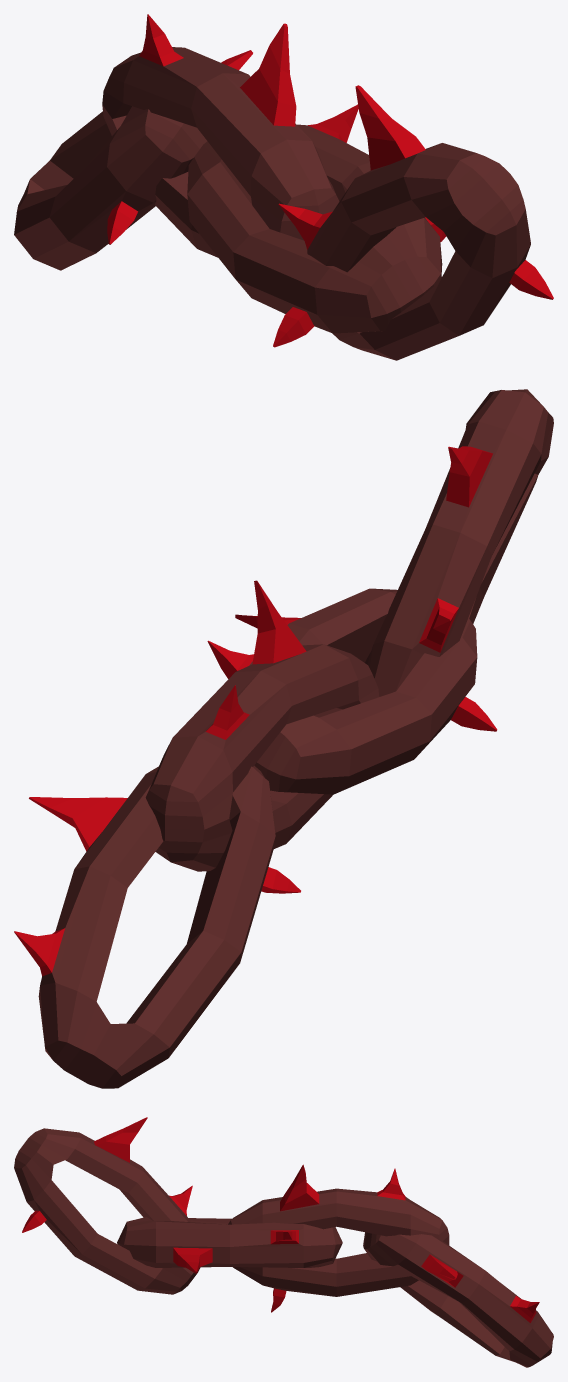
The model's file is Blood.fbx.
3 views of the same model, one above another, from view 1: azimuth 30°, elevation 25°; view 2: azimuth 150°, elevation 25°; view 3: azimuth 270°, elevation 25° (orthographic). The views are drawn at different scales.
Parts seen in each view (by area): view 1: Link.004, Link.002, Link.001, Link.003; view 2: Link.003, Link.001, Link.004, Link.002; view 3: Link.004, Link.001, Link.003, Link.002.
Part boxes in pixels (x1=…): Link.004: x1=278, y1=85, x2=553, y2=360; Link.002: x1=187, y1=104, x2=446, y2=347; Link.001: x1=102, y1=14, x2=339, y2=257; Link.003: x1=14, y1=50, x2=252, y2=270; Link.003: x1=14, y1=765, x2=300, y2=1088; Link.001: x1=145, y1=580, x2=379, y2=871; Link.004: x1=365, y1=389, x2=553, y2=696; Link.002: x1=207, y1=588, x2=497, y2=794; Link.004: x1=14, y1=1117, x2=200, y2=1294; Link.001: x1=228, y1=1164, x2=449, y2=1312; Link.003: x1=363, y1=1232, x2=553, y2=1367; Link.002: x1=117, y1=1217, x2=342, y2=1273.
Size of the model in its own units: 414 by 679 by 1383.
